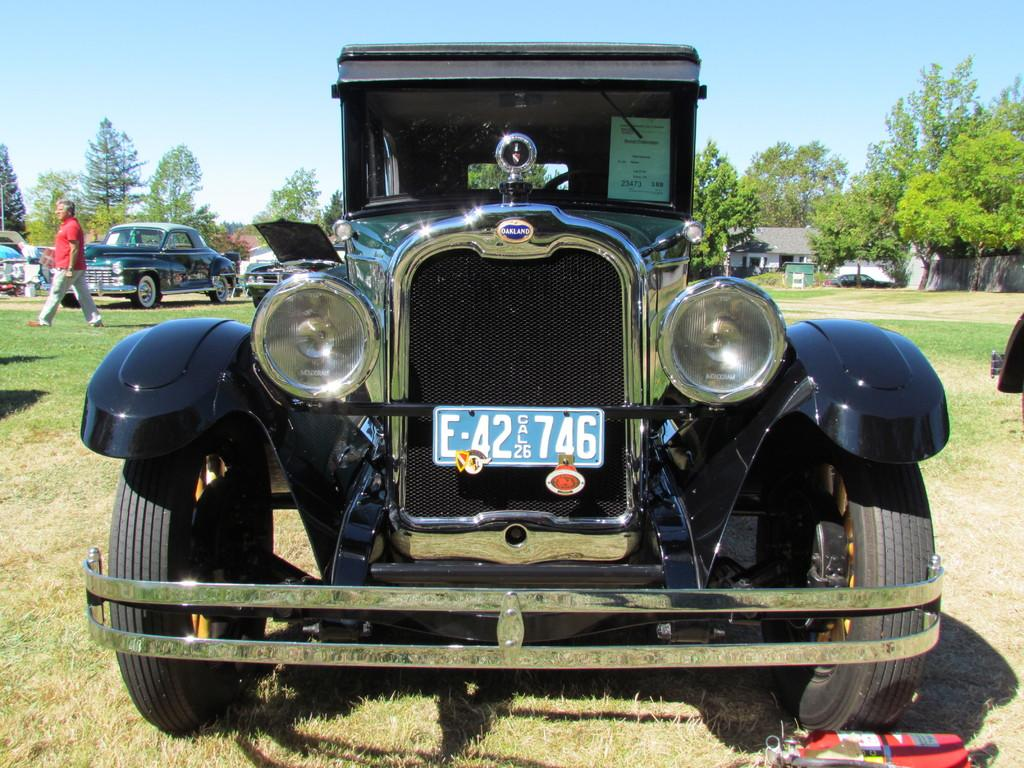Car: (81, 42, 944, 737), (61, 224, 235, 312), (243, 217, 351, 307), (1, 241, 28, 294), (833, 273, 902, 287)
